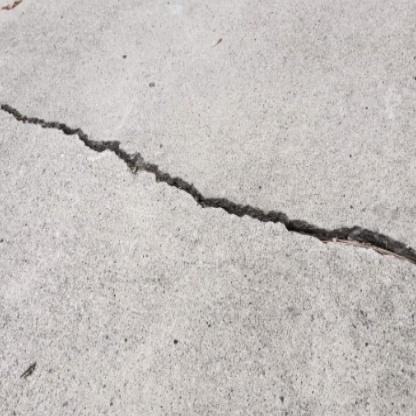Cracks: (0, 94, 416, 275)
